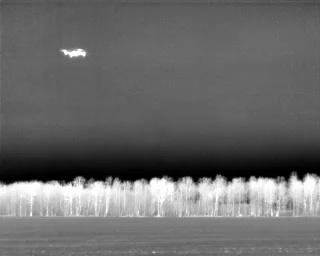DRONE: (58, 43, 91, 63)
